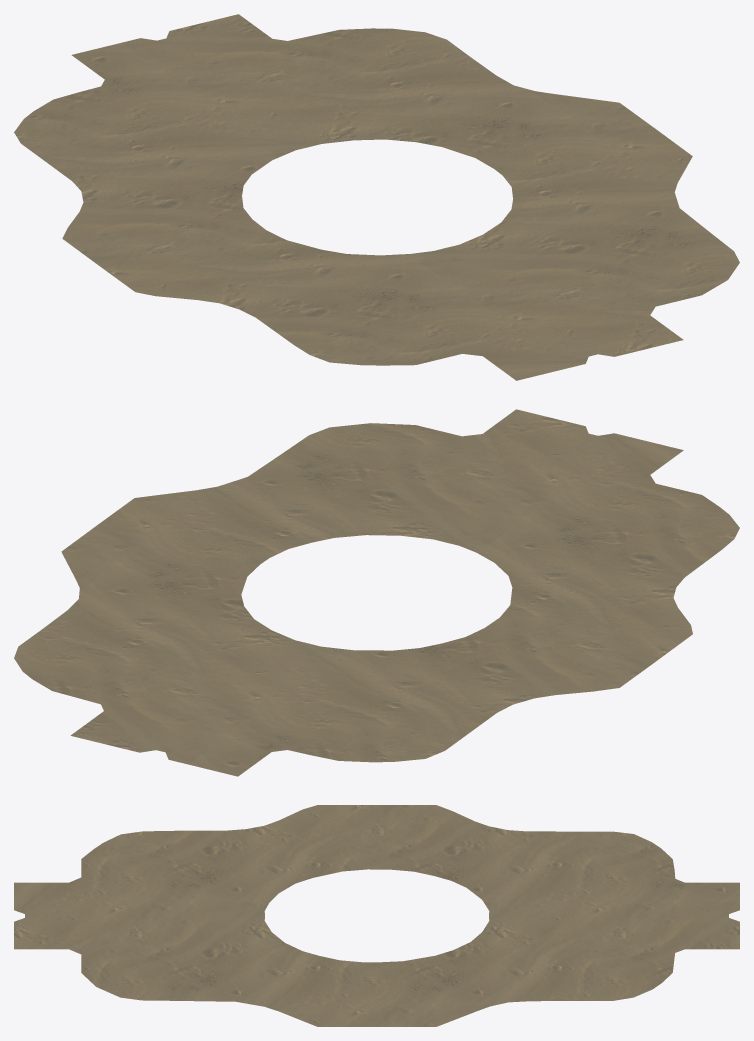
The model's file is pref_sm_beach_techunderwater01_lv1.fbx.
3 renders of one model, top to bottom at view 1: azimuth 30°, elevation 25°; view 2: azimuth 150°, elevation 25°; view 3: azimuth 270°, elevation 25°, orthographic. The views are drawn at different scales.
Visible parts, largest first — view 1: pref_sm_beach_techunderwater01_lv1; view 2: pref_sm_beach_techunderwater01_lv1; view 3: pref_sm_beach_techunderwater01_lv1.
Part boxes in pixels (<box>): pref_sm_beach_techunderwater01_lv1: <box>14,14,739,380</box>; pref_sm_beach_techunderwater01_lv1: <box>14,409,739,776</box>; pref_sm_beach_techunderwater01_lv1: <box>14,805,739,1026</box>.
Size of the model in its own units: 24.22 by 0.000196 by 33.49.
